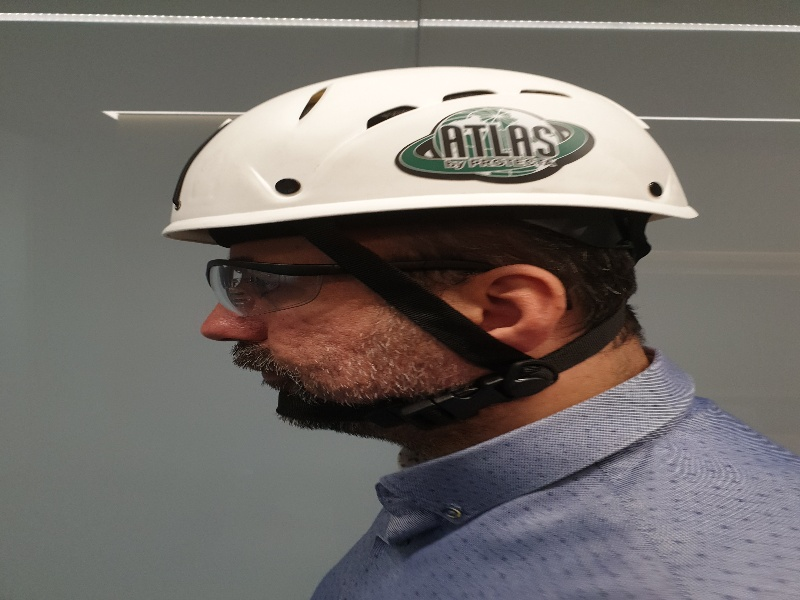Baret: (162, 64, 698, 228)
Gozluk: (201, 258, 493, 323)
